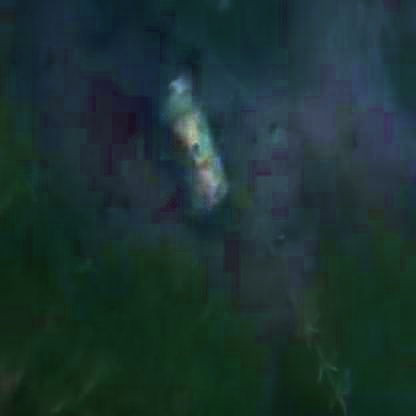can: (164, 66, 232, 232)
